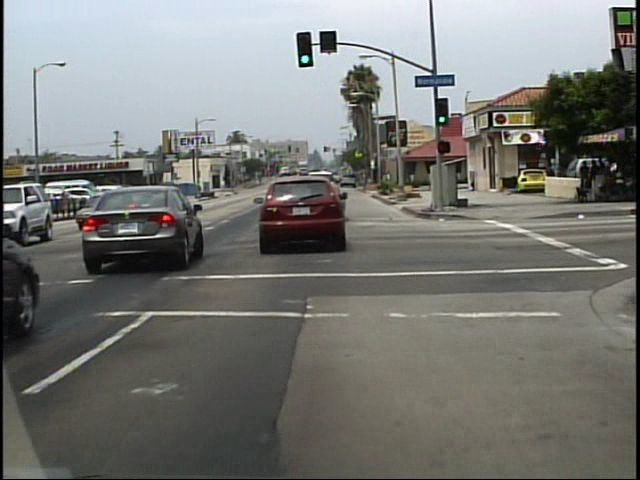person: (542, 160, 558, 198)
